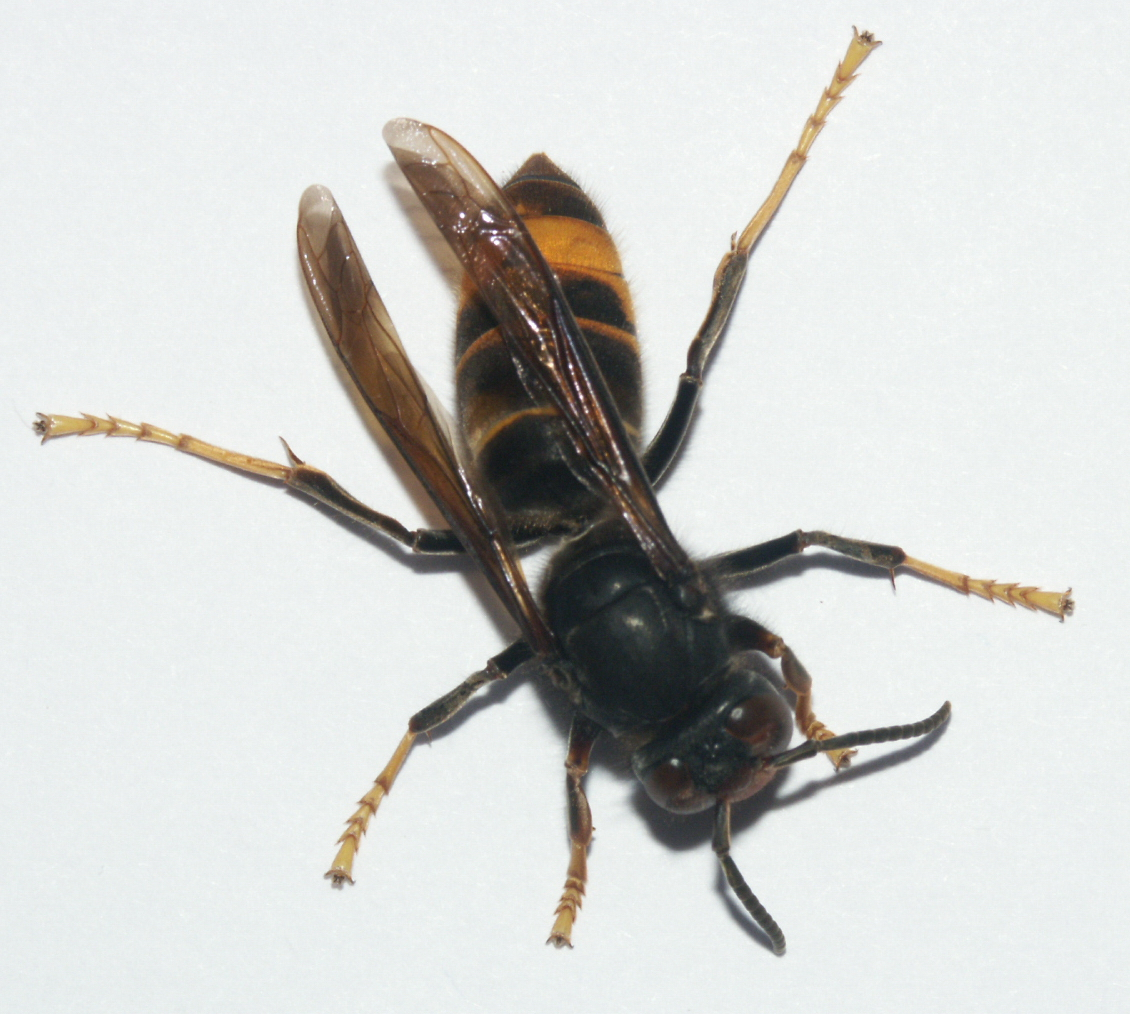hornet: (285, 87, 939, 936)
